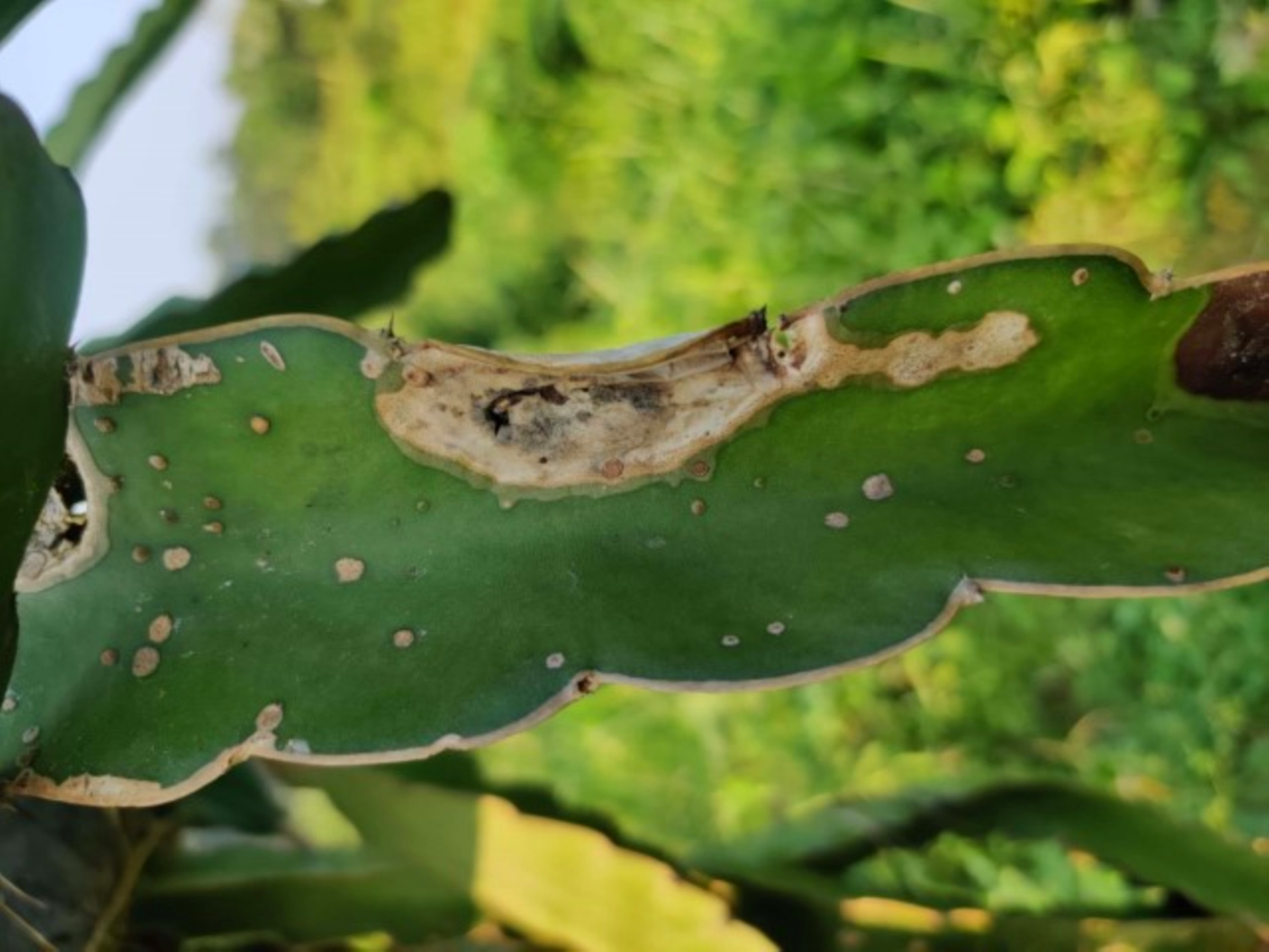stemcanker: (68, 264, 1072, 582)
